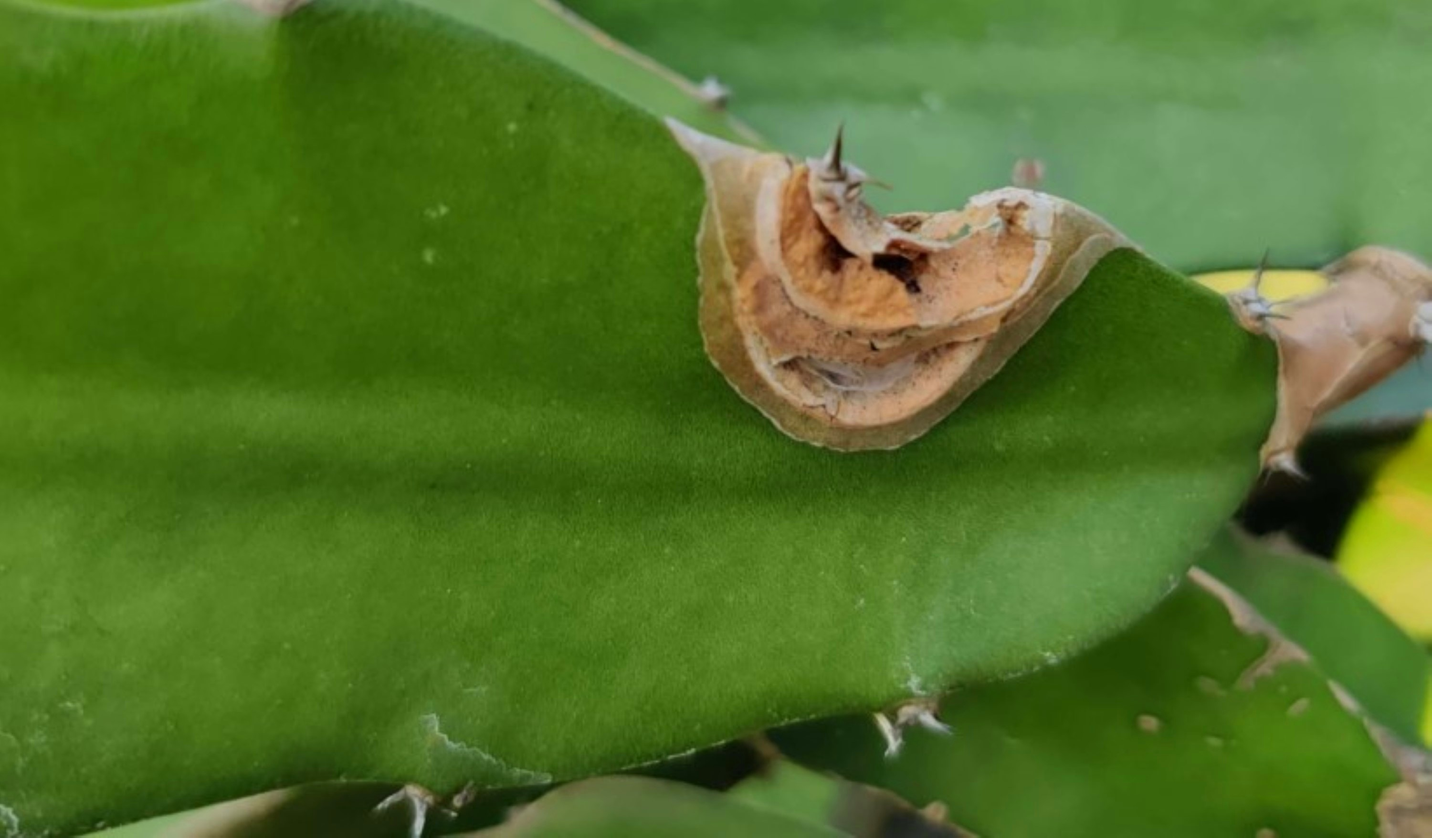stemcanker: (661, 95, 1162, 506)
